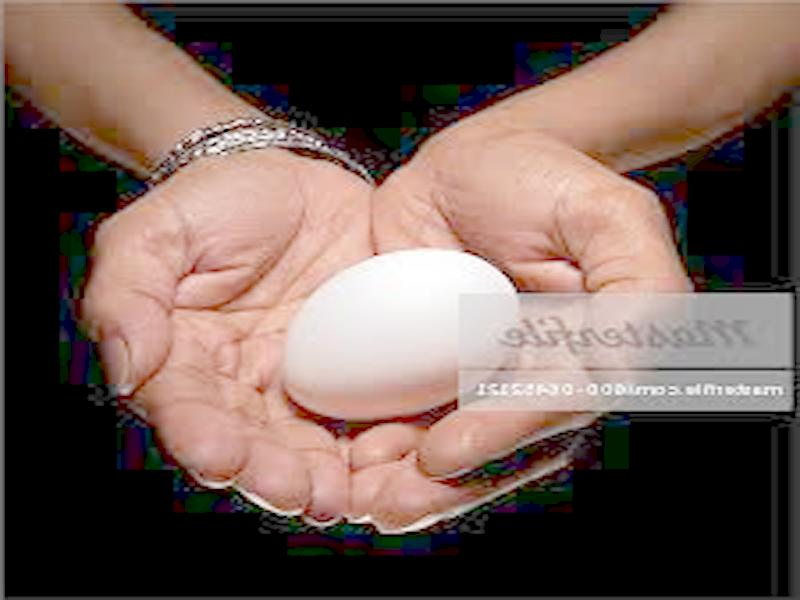Eggs: (280, 251, 511, 421)
